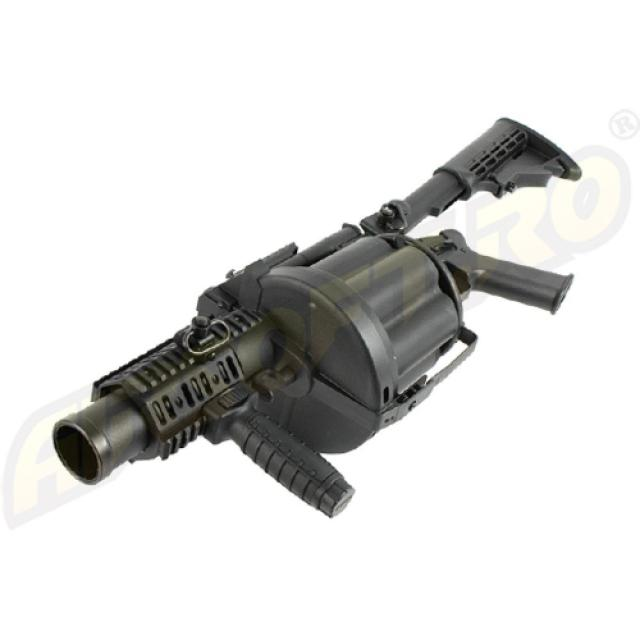Weapon: (43, 110, 587, 524)
